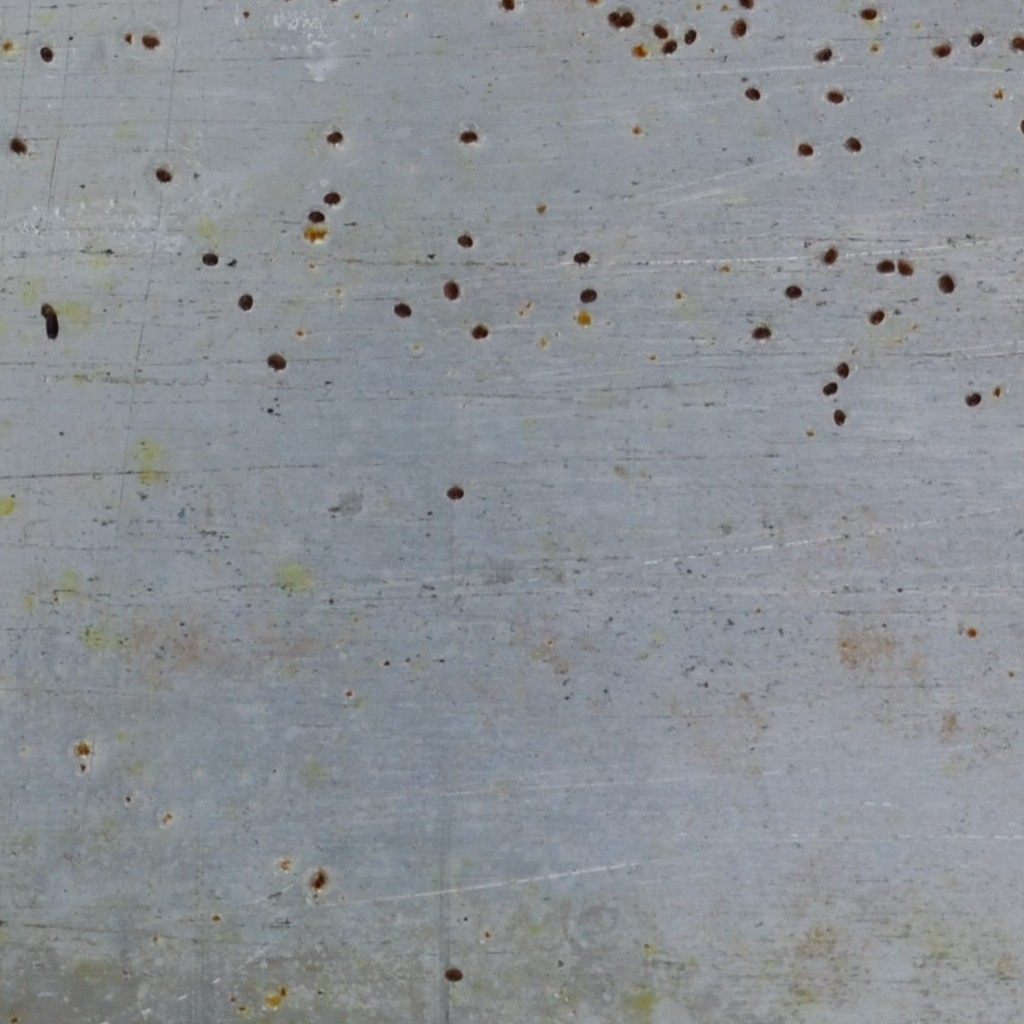varroa: (139, 29, 163, 57), (263, 349, 290, 373), (935, 269, 957, 298), (749, 321, 775, 345), (151, 163, 177, 187), (44, 312, 62, 344), (874, 253, 896, 279), (391, 298, 414, 321), (894, 256, 915, 281), (8, 137, 33, 158), (441, 278, 460, 305), (235, 292, 257, 315), (442, 484, 468, 503), (200, 250, 222, 272), (38, 43, 58, 67), (867, 305, 886, 330), (820, 246, 841, 268), (469, 322, 491, 343), (324, 125, 345, 146), (813, 45, 835, 65), (783, 281, 805, 301), (442, 965, 464, 985), (729, 17, 748, 40), (458, 127, 481, 146), (842, 134, 862, 155), (650, 20, 670, 41), (322, 186, 342, 207), (931, 42, 953, 61), (796, 139, 816, 159), (455, 232, 475, 252), (962, 390, 983, 409), (742, 85, 763, 104), (831, 406, 849, 428), (570, 249, 593, 266), (967, 31, 986, 51), (825, 88, 845, 107), (820, 379, 839, 399), (578, 287, 598, 306), (858, 6, 879, 24), (834, 359, 851, 380), (682, 26, 699, 47), (1007, 34, 1023, 56), (607, 9, 622, 32), (660, 39, 678, 57), (37, 300, 55, 318), (306, 209, 326, 225), (620, 8, 635, 29), (498, 0, 517, 14), (737, 0, 757, 11)
